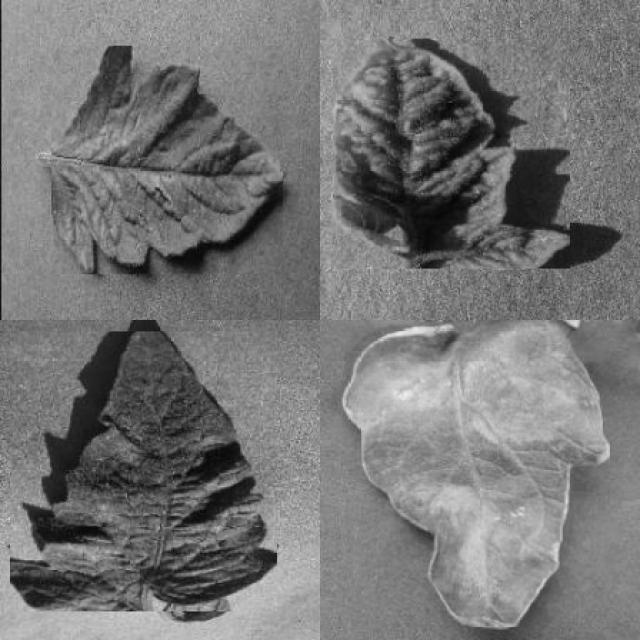Late Blight: (342, 320, 611, 627)
Mosaic Virus: (51, 45, 283, 275)
Spider Mites: (10, 332, 277, 612)
Yellow Leaf Curl Virus: (333, 38, 570, 268)
